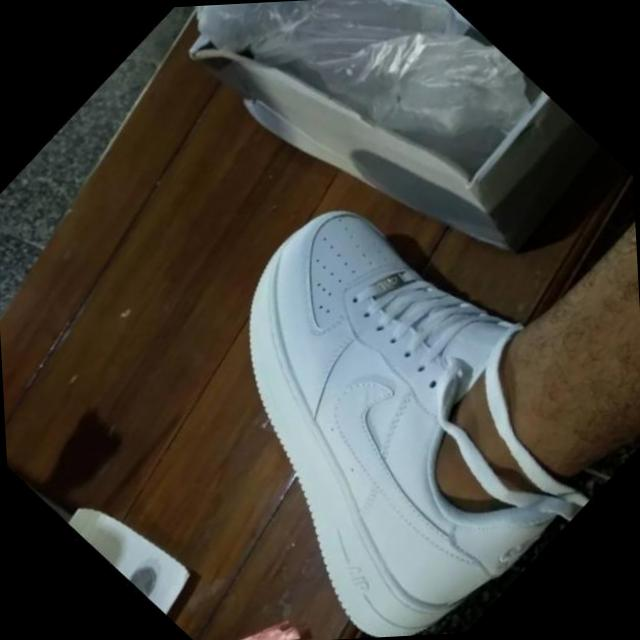nike_fake_airforce: (110, 161, 639, 640), (139, 0, 564, 289)
